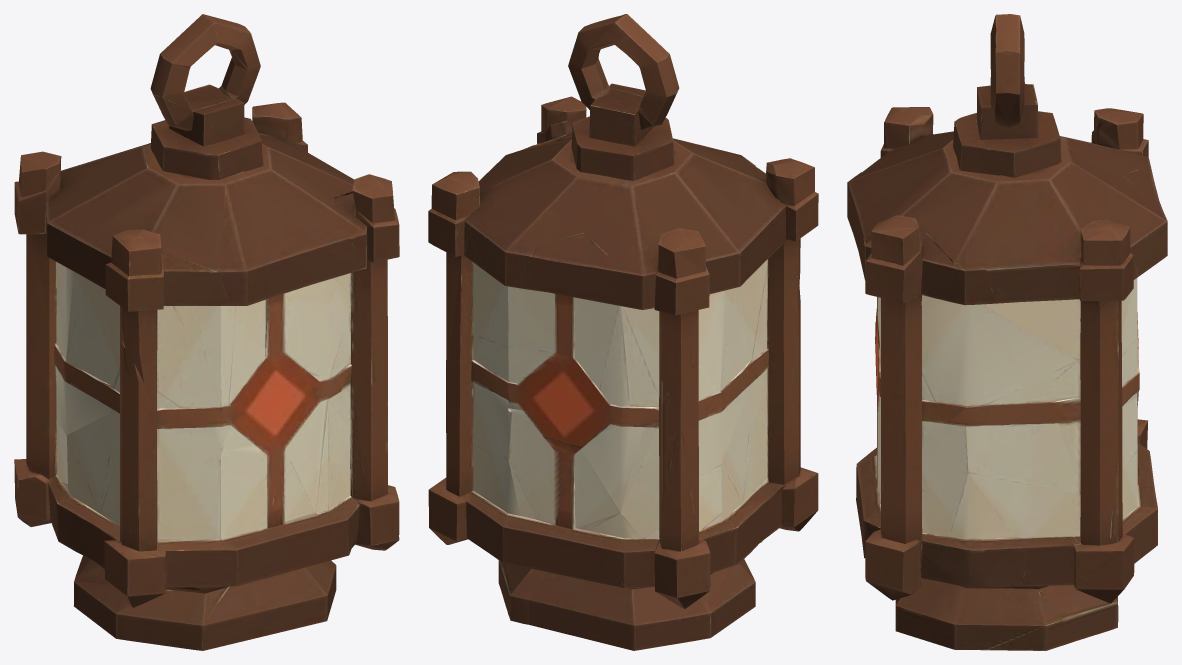
The model's file is hanjiLantern.glb.
3 renders of one model, left to right at view 1: azimuth 30°, elevation 25°; view 2: azimuth 150°, elevation 25°; view 3: azimuth 270°, elevation 25°, orthographic.
Parts seen in each view (by area): view 1: Mesh_0; view 2: Mesh_0; view 3: Mesh_0.
Part boxes in pixels (<box>): Mesh_0: <box>14,14,399,650</box>; Mesh_0: <box>428,14,818,650</box>; Mesh_0: <box>847,14,1167,650</box>.
Size of the model in its own units: 1 by 2 by 0.9903.
1 material, 1 textured.
